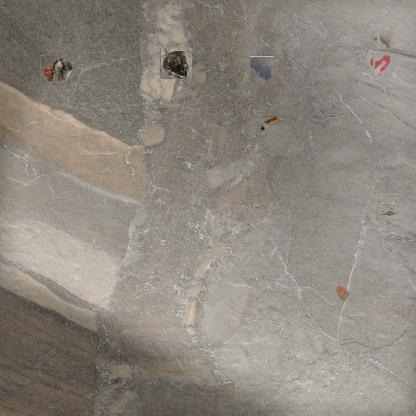dirty: (161, 47, 192, 79), (40, 55, 74, 83), (375, 198, 399, 220), (375, 26, 396, 47), (332, 282, 352, 304), (258, 114, 278, 132)
liquid: (250, 56, 274, 81), (371, 56, 391, 76)
